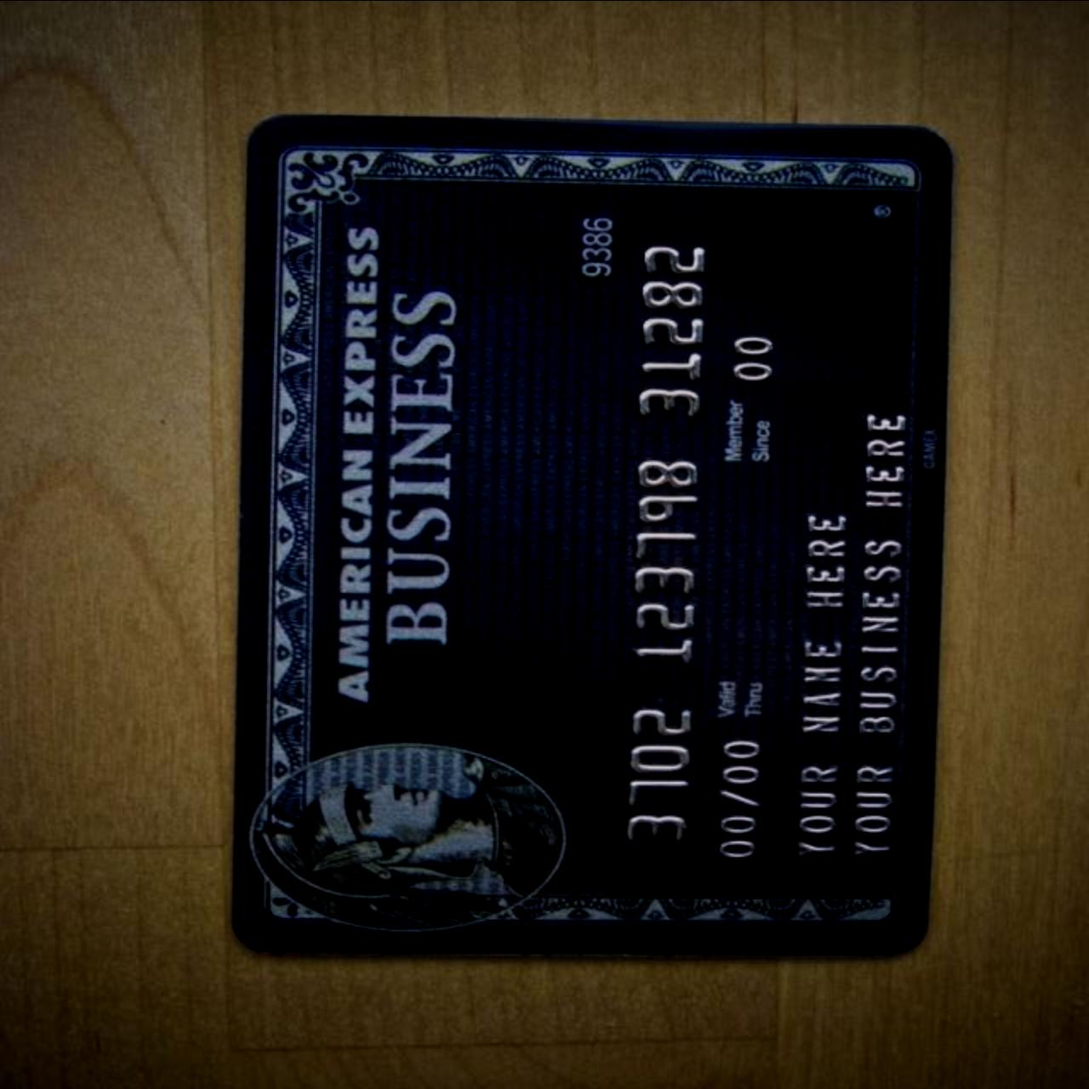credit_card: (235, 112, 966, 966)
